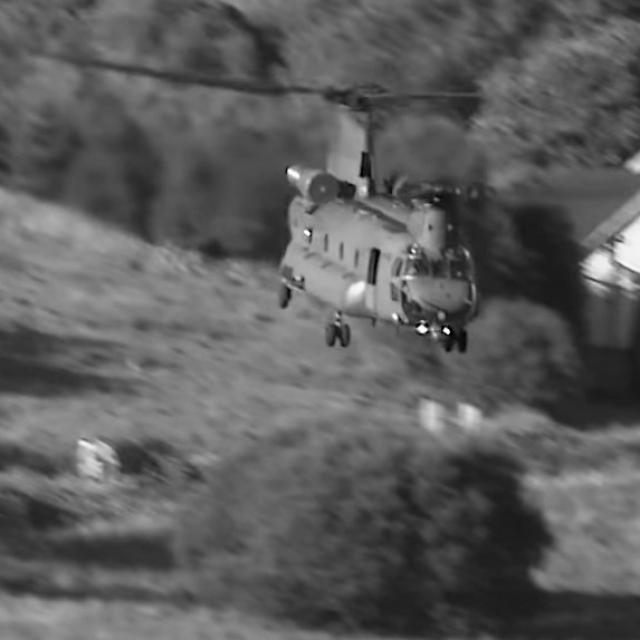Helicopter: (60, 57, 518, 352)
